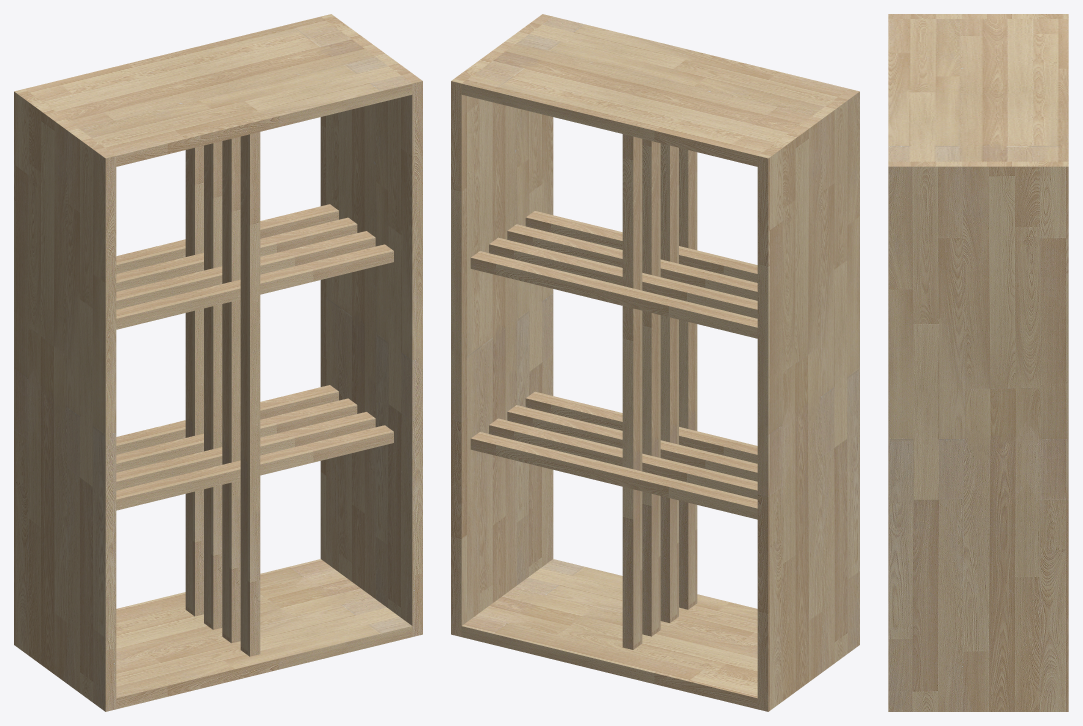
The picture shows the model from 3 angles, left to right: view 1: azimuth 30°, elevation 25°; view 2: azimuth 150°, elevation 25°; view 3: azimuth 270°, elevation 25°; orthographic projection.
Parts seen in each view (by area): view 1: Korpus bund_top.014; view 2: Korpus bund_top.014; view 3: Korpus bund_top.014.
Boxes of the visible parts, box(x1,y1,x2,y2) form: Korpus bund_top.014: box(14, 14, 422, 711); Korpus bund_top.014: box(451, 14, 859, 711); Korpus bund_top.014: box(888, 14, 1068, 711).
Size of the model in its own units: 0.6 by 1 by 0.3.
Materials: 1 (1 with a texture image).
